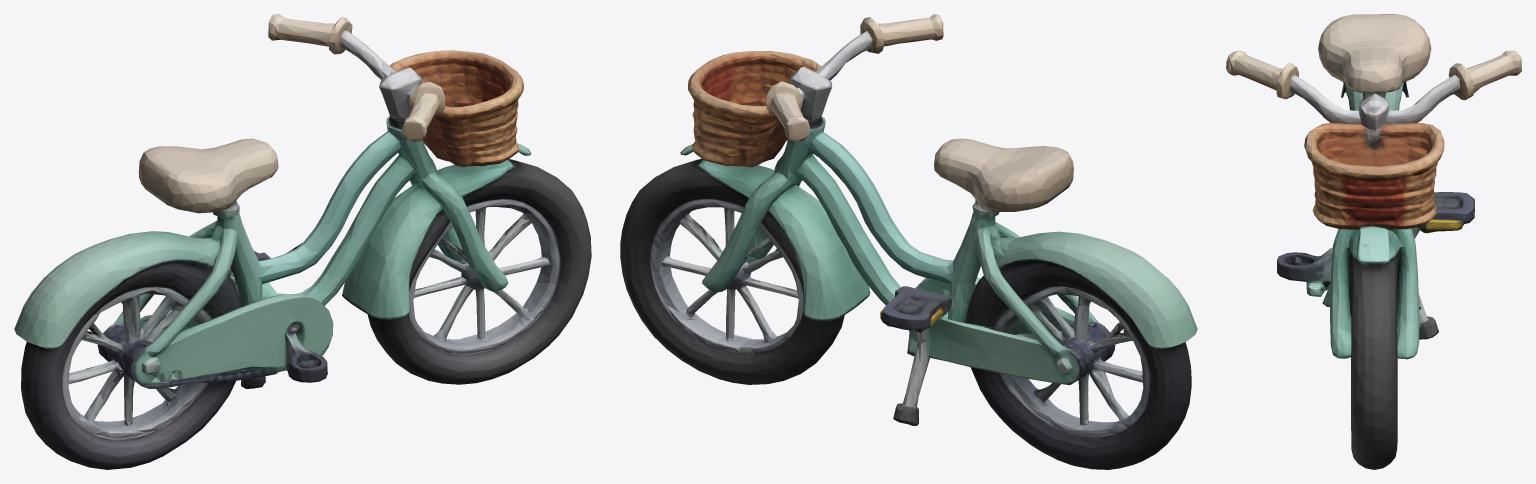
File: bici.glb
The picture shows the model from 3 angles, left to right: view 1: azimuth 30°, elevation 25°; view 2: azimuth 150°, elevation 25°; view 3: azimuth 270°, elevation 25°; orthographic projection.
Visible parts, largest first — view 1: world; view 2: world; view 3: world.
Part boxes in pixels (x1,y1,x2,y2): world: (14,14,591,469); world: (620,14,1197,469); world: (1226,14,1521,469).
Size of the model in its own units: 0.9951 by 0.5929 by 0.4552.
1 material, 1 textured.
